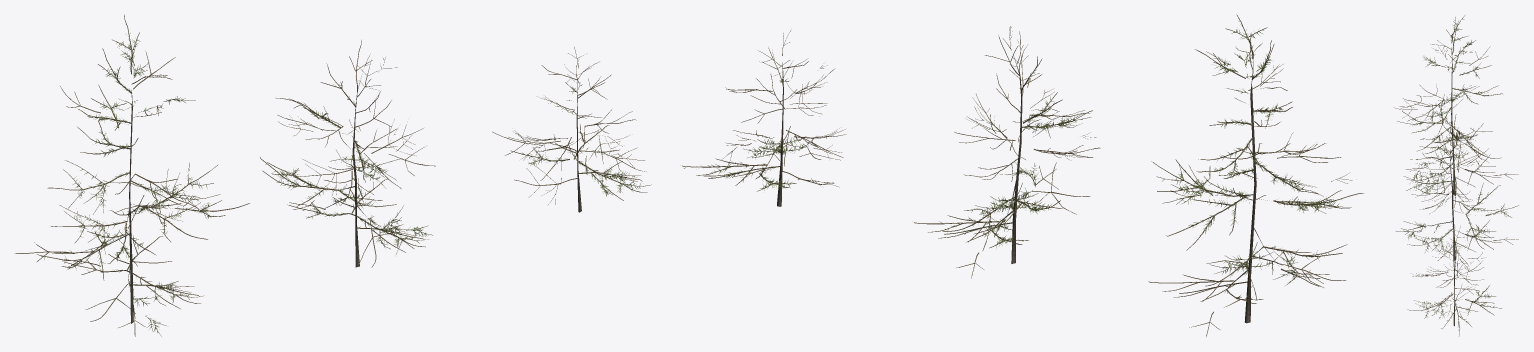
The model's file is fir_sapling.gltf.
3 views of the same model, side by side, from view 1: azimuth 30°, elevation 25°; view 2: azimuth 150°, elevation 25°; view 3: azimuth 270°, elevation 25° (orthographic). The views are drawn at different scales.
Size of the model in its own units: 2.72 by 1.29 by 0.8133.
Materials: 2 (2 with a texture image).
